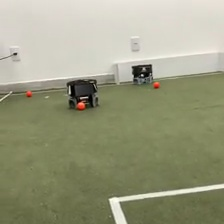ball: (75, 100, 87, 111), (152, 80, 160, 89), (25, 88, 33, 97)
goal: (112, 50, 224, 86)
robot: (65, 77, 101, 111), (130, 63, 154, 86)
